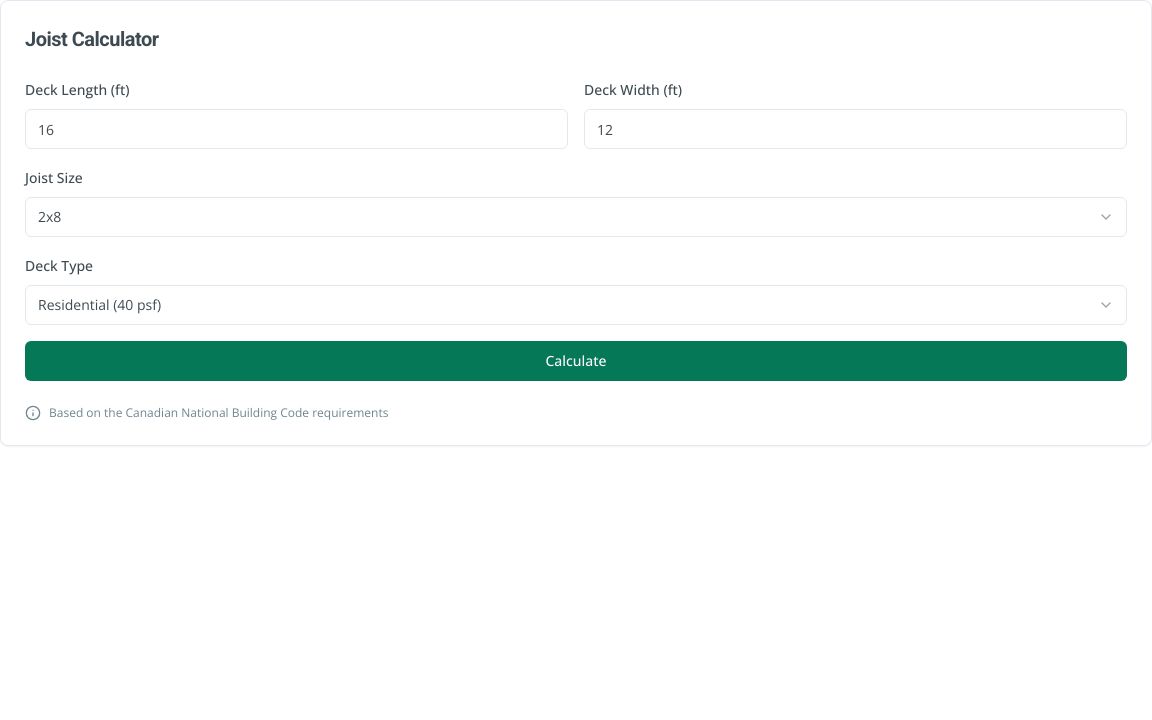
it: JoistCalculator › calculates spacing, joist count and total length for default inputs
Step 1. Click the button "Calculate" → (576, 361), box x1=25 y1=341 x2=1127 y2=381
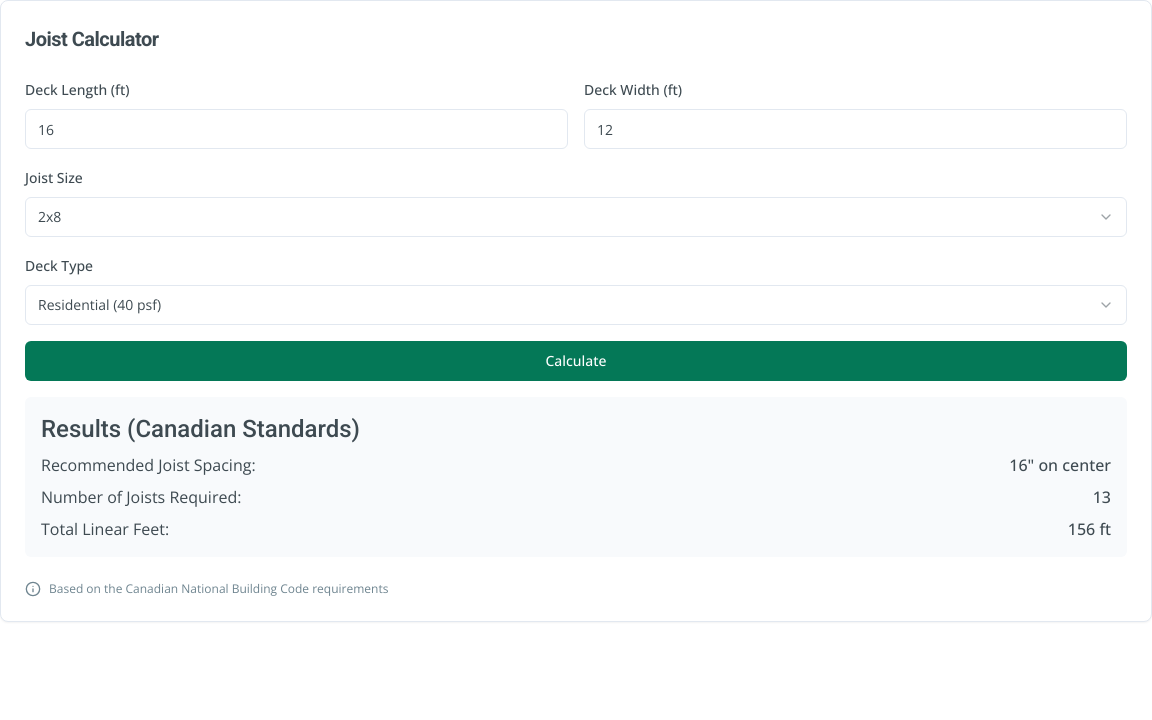
Now the text "16\" on center" is shown, box x1=1009 y1=453 x2=1111 y2=477
Now the text "13" is shown, box x1=1093 y1=485 x2=1111 y2=509
Now the text "156 ft" is shown, box x1=1068 y1=517 x2=1111 y2=541
